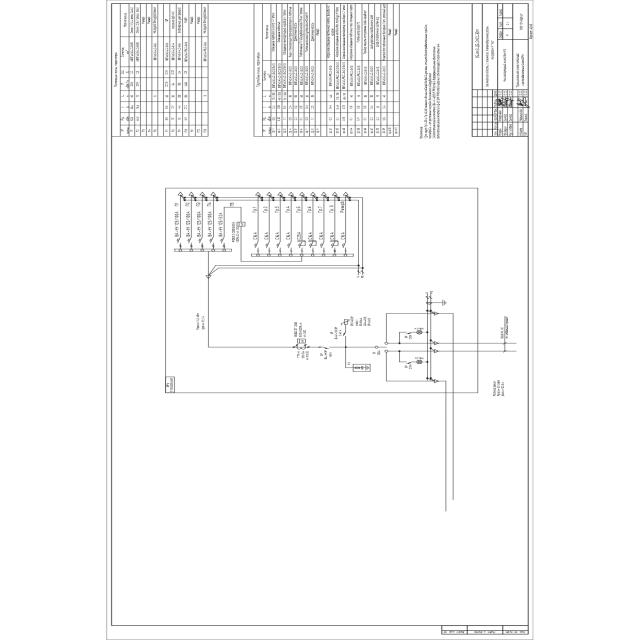-: (349, 316, 372, 327), (230, 221, 240, 243), (293, 322, 307, 337), (207, 211, 212, 238), (185, 210, 190, 236), (218, 212, 223, 237), (166, 378, 174, 392), (175, 210, 179, 237), (197, 210, 201, 237), (334, 326, 342, 339), (323, 350, 332, 360), (301, 350, 310, 360), (414, 326, 424, 331), (274, 232, 280, 240), (318, 232, 324, 240), (307, 232, 313, 240), (252, 232, 258, 240), (329, 232, 334, 240), (264, 232, 269, 240), (340, 232, 345, 240), (296, 232, 301, 240), (286, 232, 291, 240), (414, 357, 424, 360), (376, 350, 381, 356), (408, 364, 412, 370), (408, 335, 412, 339)
FV: (341, 318, 350, 326)
HL: (416, 330, 423, 335), (417, 360, 422, 364)
QF: (265, 241, 272, 252), (209, 237, 216, 248), (188, 236, 194, 248), (176, 236, 182, 248), (287, 242, 294, 252), (253, 242, 260, 252), (276, 241, 282, 252), (220, 237, 226, 248), (198, 237, 204, 248), (342, 242, 348, 252), (320, 242, 326, 252), (323, 345, 332, 350), (405, 331, 412, 335), (343, 332, 347, 336), (405, 362, 412, 364)
QFD: (330, 240, 340, 253), (296, 240, 306, 252), (308, 240, 317, 252)
TT: (295, 344, 307, 349)
WH: (296, 338, 307, 344), (236, 221, 246, 227)
switch: (374, 341, 390, 353)
